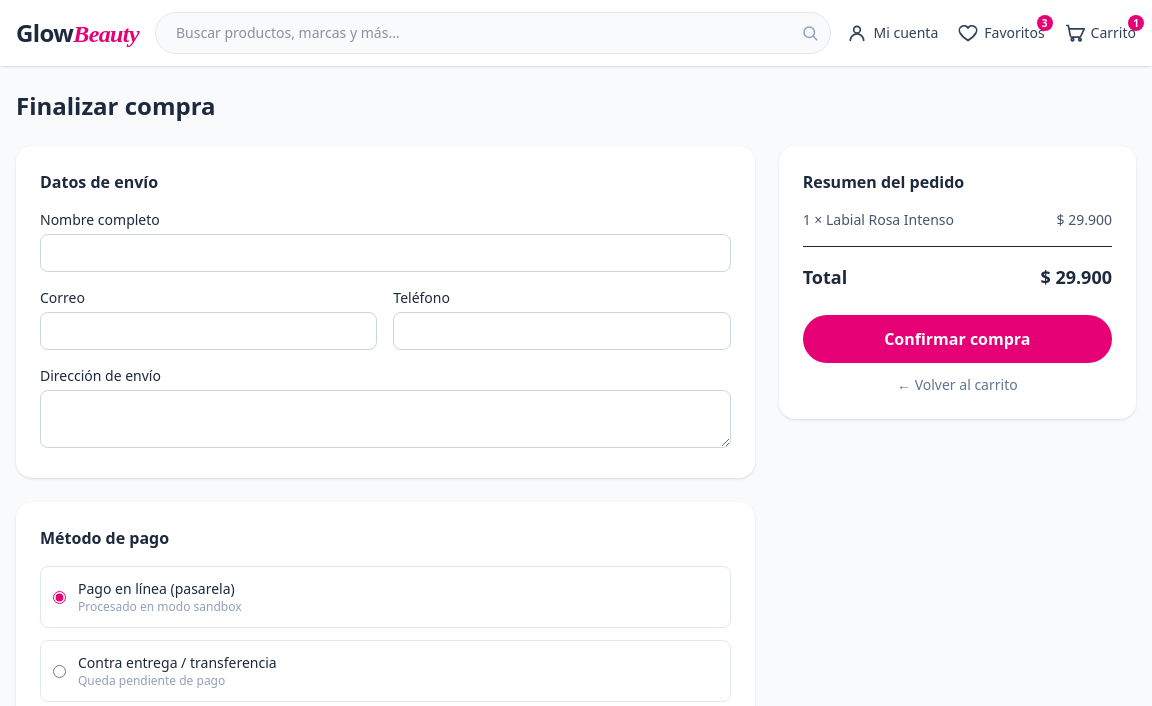
it: CheckoutPage – formulario › muestra error de pago rechazado cuando la API responde 402
Step 1. Type "Ana García" into the field labelled "Nombre completo" → (385, 253), box [40, 234, 731, 272]
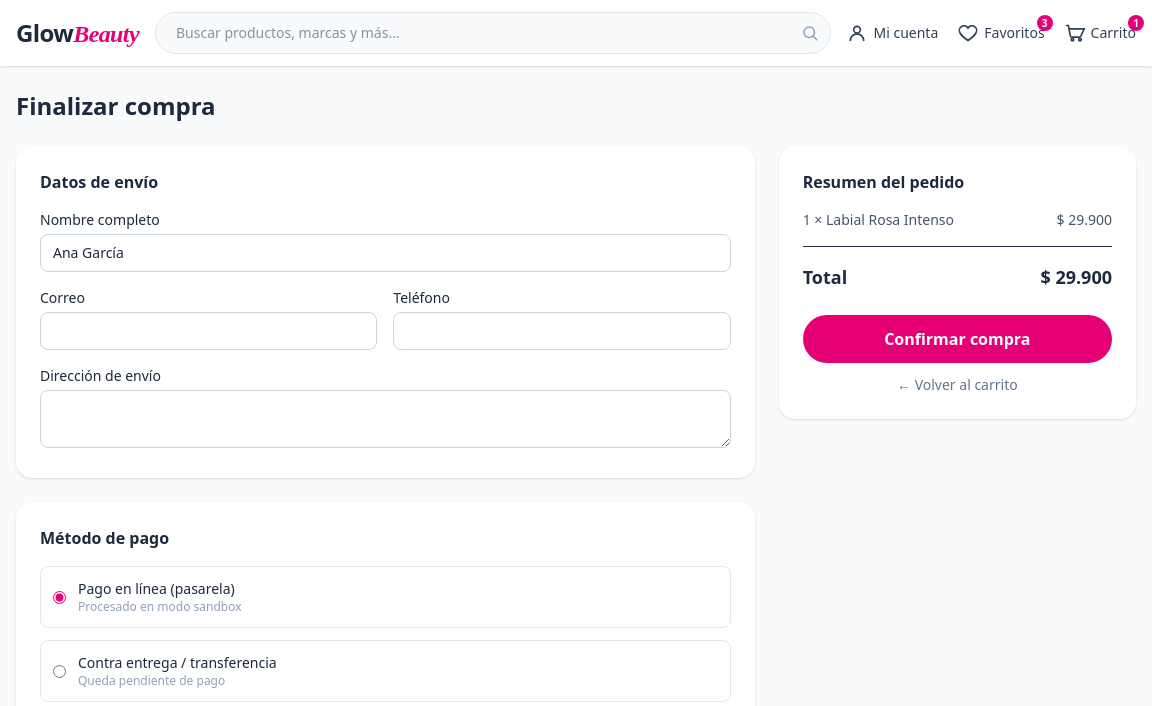
Step 2. Type "ana@test.com" into the field labelled "Correo" → (209, 331), box [40, 312, 377, 350]
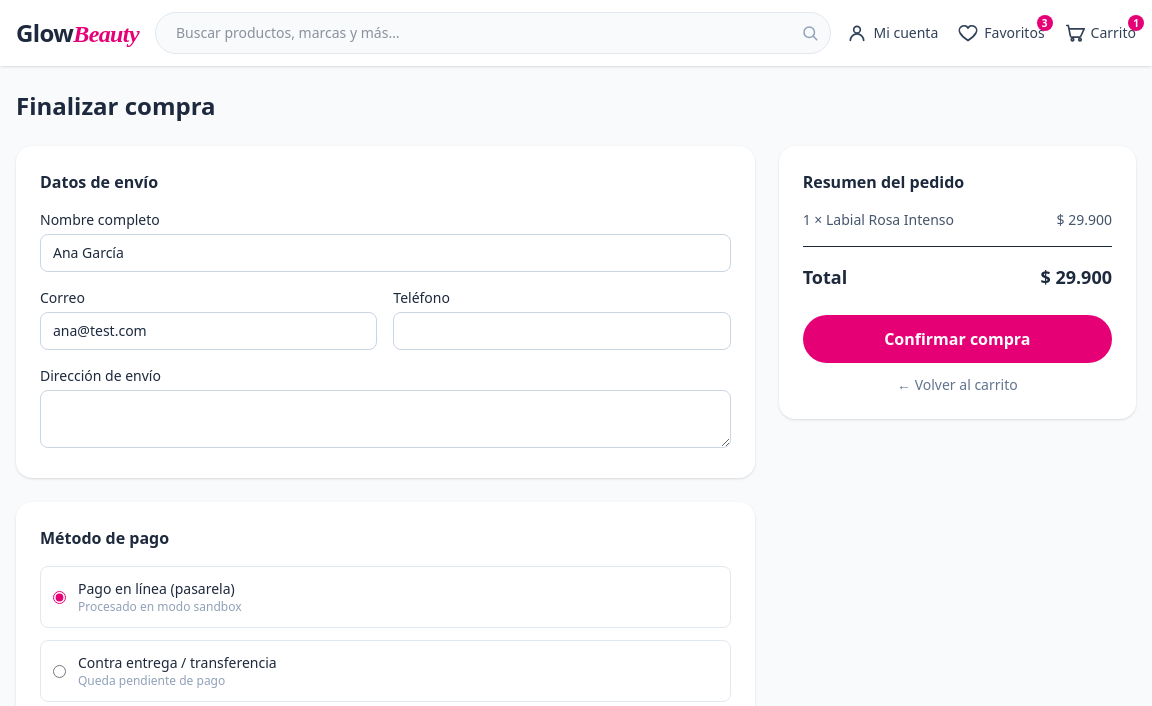
Step 3. Type "Calle 1 #2-3" into the text box labelled "Dirección de envío" → (385, 419), box [40, 390, 731, 448]
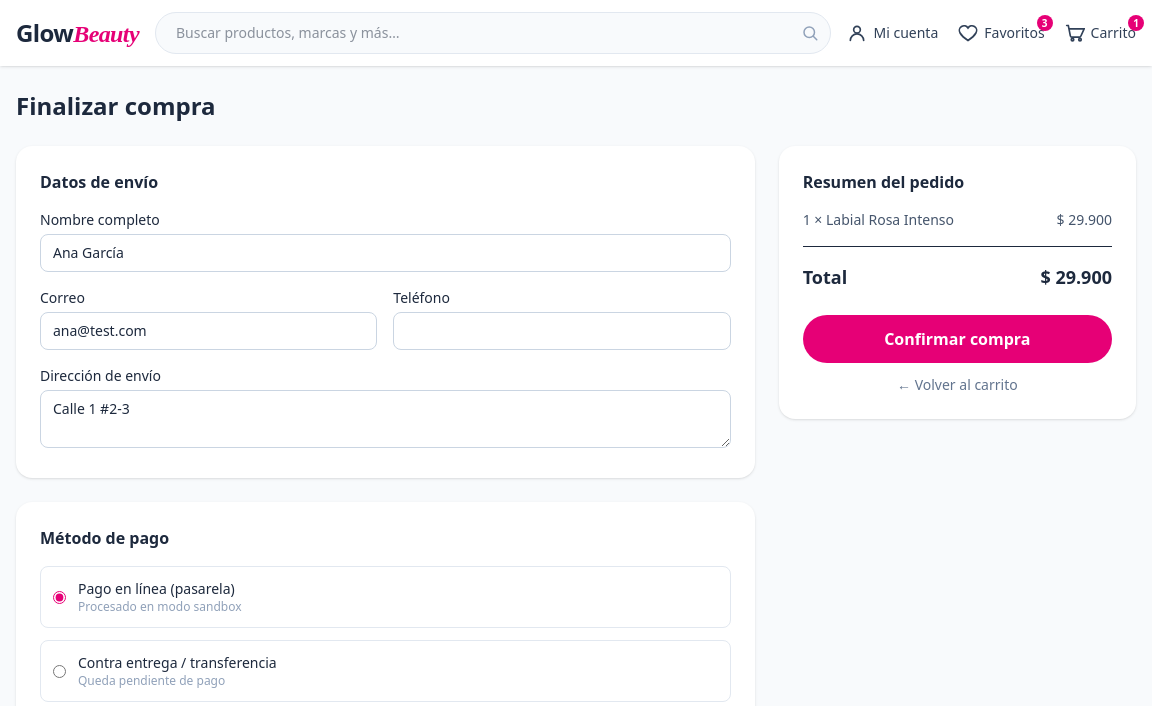
Step 4. Click the button "Confirmar compra" → (957, 339), box [803, 315, 1112, 363]
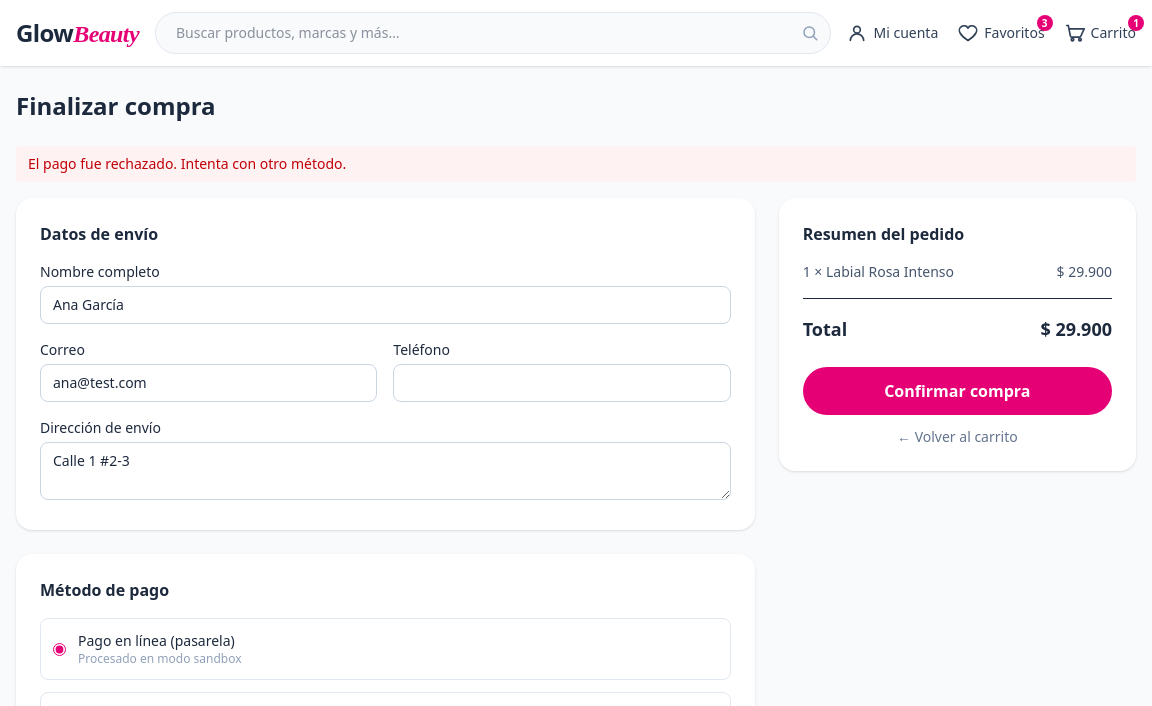
Now the text "El pago fue rechazado. Intenta con otro método." is shown, box [16, 146, 1136, 182]
